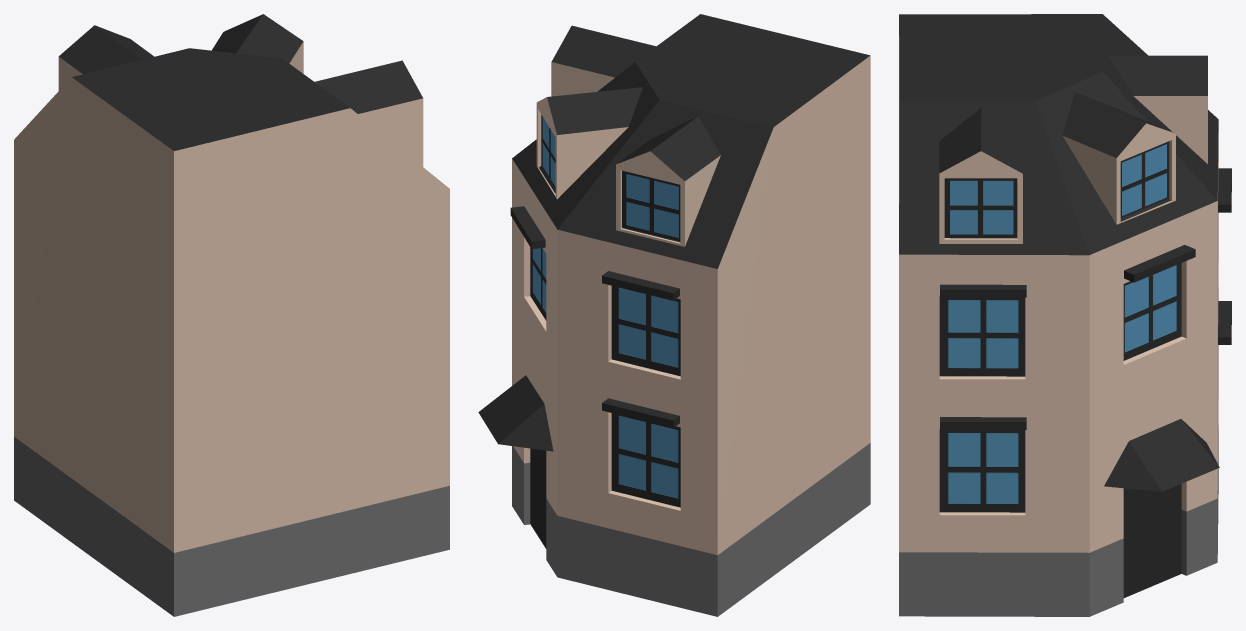
The model's file is CornerSquereBeige.obj.
The picture shows the model from 3 angles, left to right: view 1: azimuth 30°, elevation 25°; view 2: azimuth 150°, elevation 25°; view 3: azimuth 270°, elevation 25°; orthographic projection. The views are drawn at different scales.
Parts seen in each view (by area): view 1: NaroznikBezowy1; view 2: NaroznikBezowy1; view 3: NaroznikBezowy1.
Part boxes in pixels (x1,y1,x2,y2): NaroznikBezowy1: (14,14,449,616); NaroznikBezowy1: (478,14,870,616); NaroznikBezowy1: (899,14,1231,616).
Bounding box in the file's own units: 5.21 × 8.07 × 5.21.
1 material, 1 textured.
